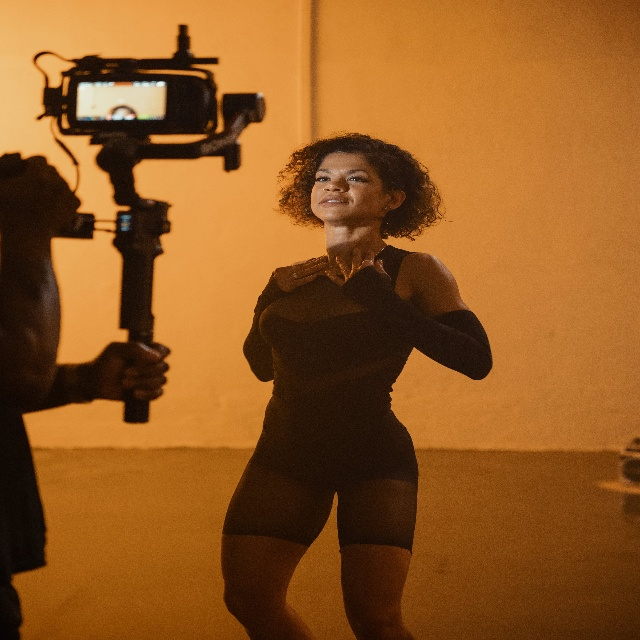Sin_guantes: (94, 339, 170, 400), (325, 247, 391, 305), (272, 254, 328, 292)
